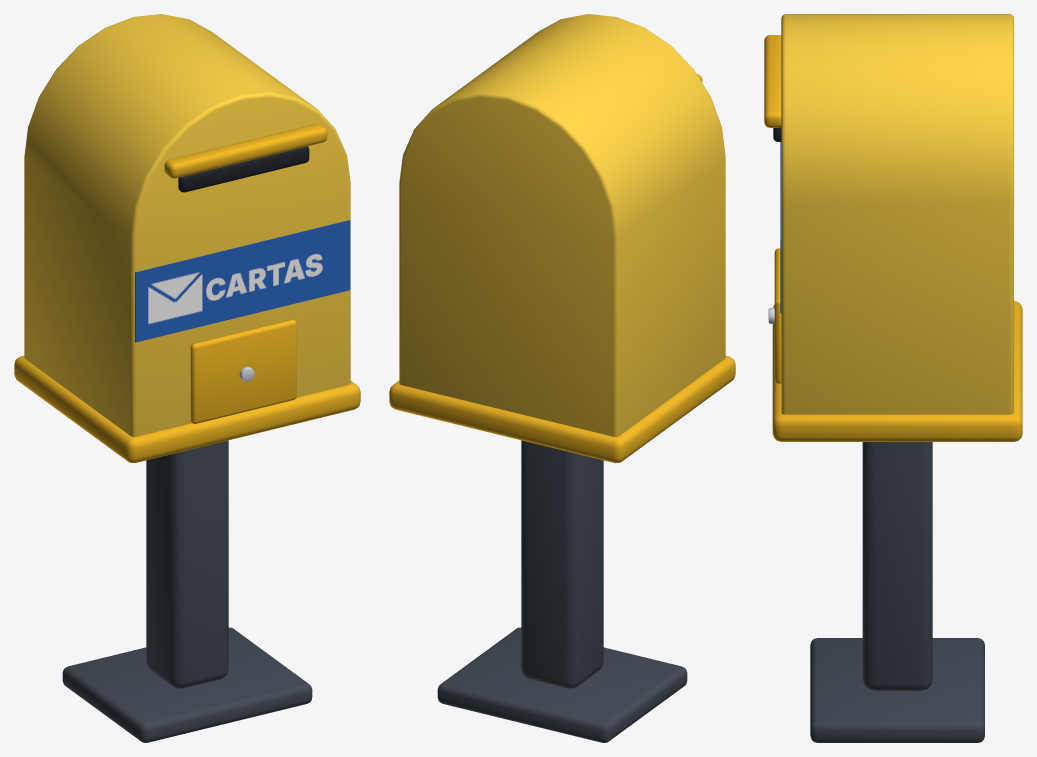
The model's file is caixa_correio.glb.
The picture shows the model from 3 angles, left to right: view 1: azimuth 30°, elevation 25°; view 2: azimuth 150°, elevation 25°; view 3: azimuth 270°, elevation 25°; orthographic projection. The views are drawn at different scales.
Visible parts, largest first — view 1: caixa_correio; view 2: caixa_correio; view 3: caixa_correio.
Boxes of the visible parts, x1,y1,x2,y2 form: caixa_correio: (14, 14, 360, 742); caixa_correio: (389, 14, 735, 742); caixa_correio: (764, 14, 1022, 742).
Size of the model in its own units: 0.49 by 1.28 by 0.4445.
2 materials, 2 textured.
